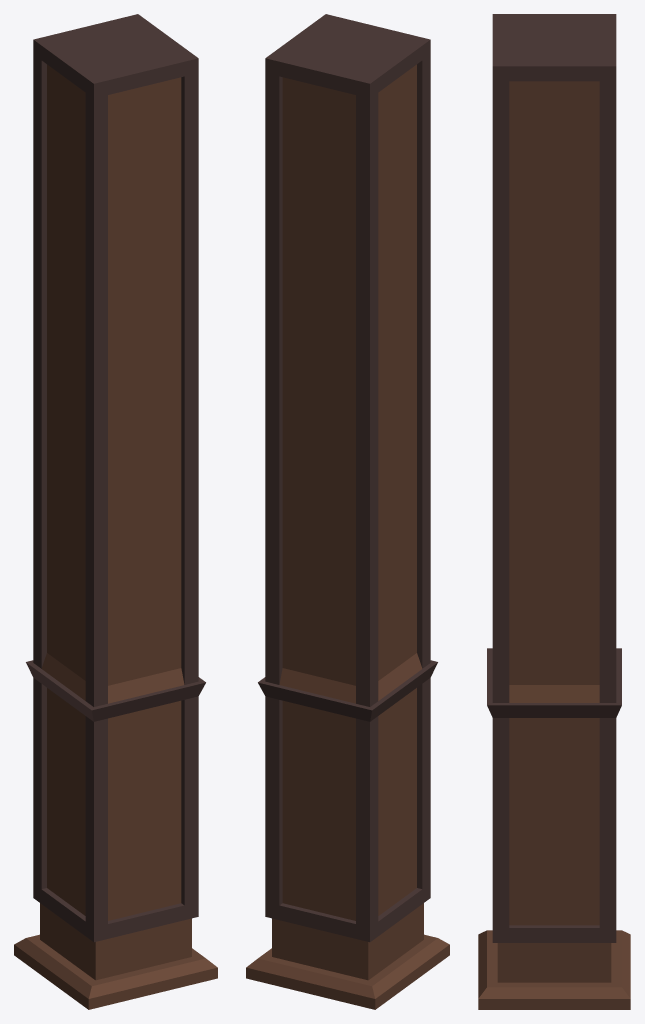
File: columna_1.fbx
The picture shows the model from 3 angles, left to right: view 1: azimuth 30°, elevation 25°; view 2: azimuth 150°, elevation 25°; view 3: azimuth 270°, elevation 25°; orthographic projection. The views are drawn at different scales.
Visible parts, largest first — view 1: Columna_1; view 2: Columna_1; view 3: Columna_1.
Boxes of the visible parts, x1,y1,x2,y2 form: Columna_1: [14, 14, 217, 1009]; Columna_1: [246, 14, 449, 1009]; Columna_1: [478, 14, 630, 1009].
Bounding box in the file's own units: 86.11 × 585 × 86.11.
